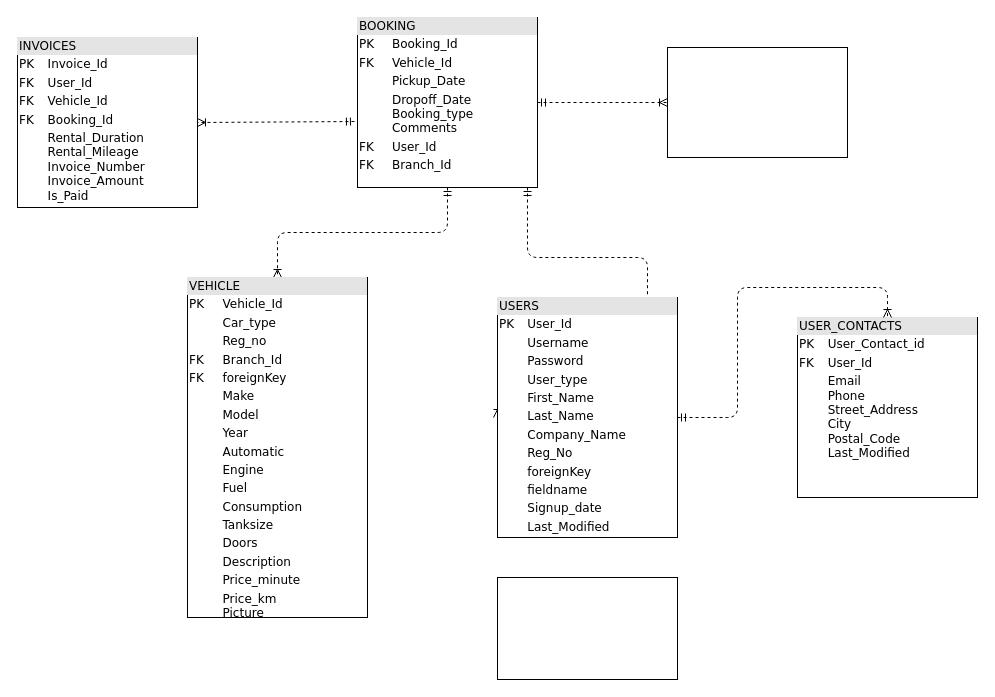
The diagram is 995 pixels wide and 697 high, and some of its shapes have lost their labels. The shapes that lost their labels are listed below. From the top down, each one's centre as x and y in pixels, then its label:
At [757,102]: "BRANCH PK Branch_Id Branch_Name Street_Address City Postal_Code".
At [587,628]: "EMPLOYEES PK Employee_Id FK User_Id Job_Title Salary".
